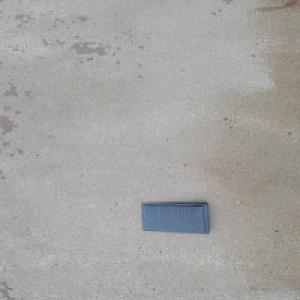PlasticPart: (139, 202, 211, 234)
